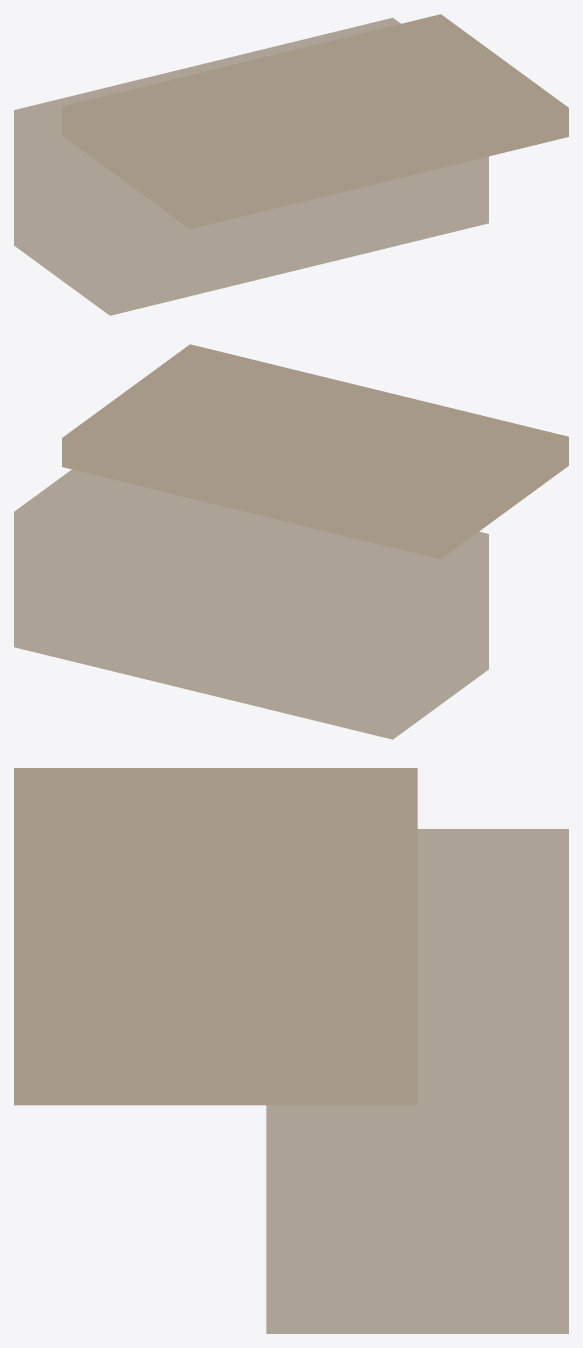
Rendered from garage-lot-curb.obj.
3 views of the same model, one above another, from view 1: azimuth 30°, elevation 25°; view 2: azimuth 150°, elevation 25°; view 3: azimuth 270°, elevation 25° (orthographic). The views are drawn at different scales.
Visible parts, largest first — view 1: garage-lot-curb; view 2: garage-lot-curb; view 3: garage-lot-curb.
Part boxes in pixels (bbox=[...]): garage-lot-curb: bbox=[14, 14, 568, 315]; garage-lot-curb: bbox=[14, 344, 568, 739]; garage-lot-curb: bbox=[14, 768, 568, 1333].
Size of the model in its own units: 0.41 by 0.18 by 0.33.
